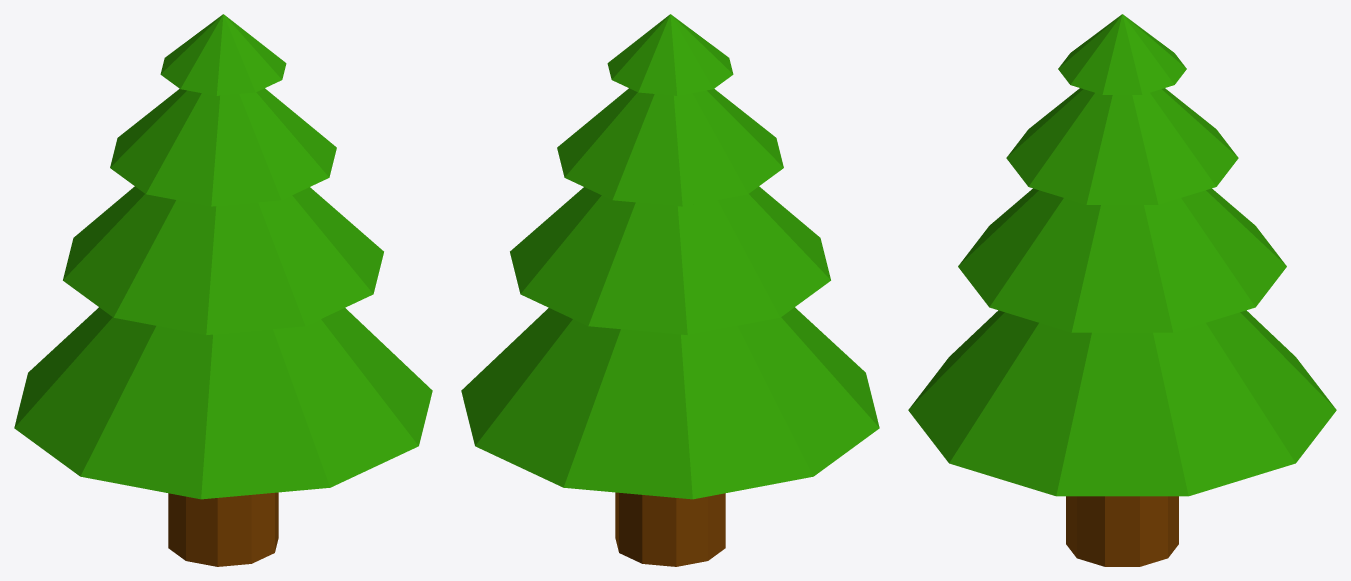
The model's file is Tree03.obj.
3 renders of one model, left to right at view 1: azimuth 30°, elevation 25°; view 2: azimuth 150°, elevation 25°; view 3: azimuth 270°, elevation 25°, orthographic.
Parts seen in each view (by area): view 1: Cube; view 2: Cube; view 3: Cube.
Part boxes in pixels (x1,y1,x2,y2): Cube: (14,14,432,566); Cube: (461,14,879,566); Cube: (908,14,1336,566).
Size of the model in its own units: 1.24 by 1.78 by 1.31.
1 material, 1 textured.
